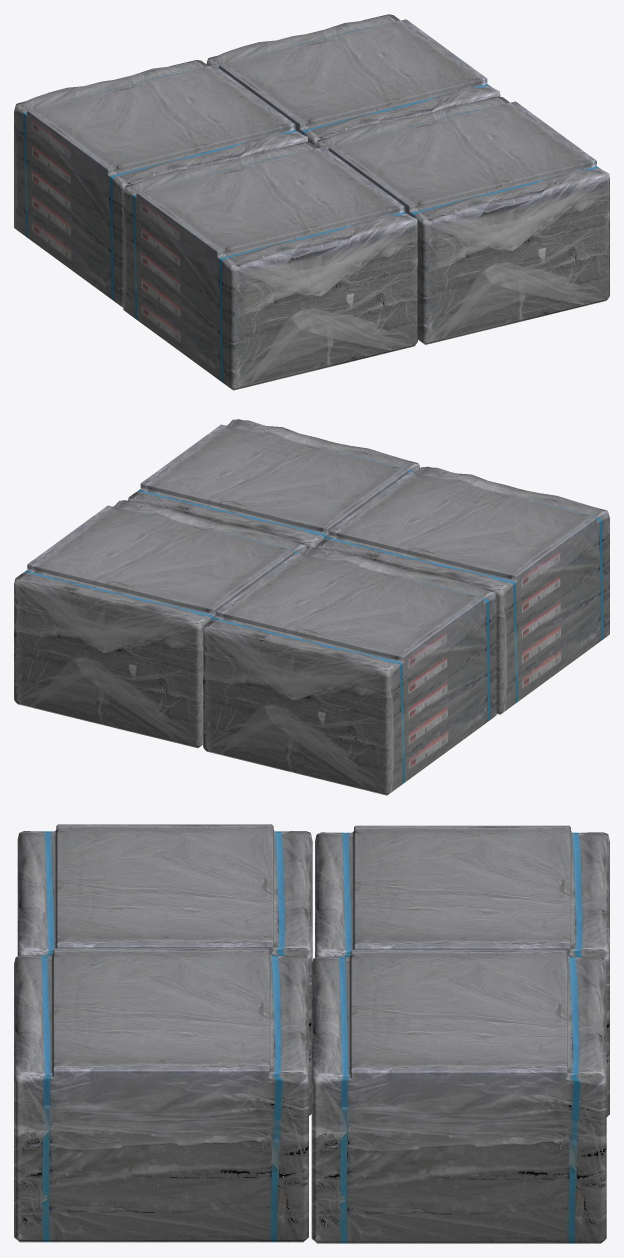
The model's file is PlasticBox_B.glb.
3 renders of one model, top to bottom at view 1: azimuth 30°, elevation 25°; view 2: azimuth 150°, elevation 25°; view 3: azimuth 270°, elevation 25°, orthographic. The views are drawn at different scales.
Parts seen in each view (by area): view 1: PlasticBox_B; view 2: PlasticBox_B; view 3: PlasticBox_B.
Boxes of the visible parts, bbox=[...] form: PlasticBox_B: bbox=[14, 14, 609, 390]; PlasticBox_B: bbox=[14, 419, 609, 795]; PlasticBox_B: bbox=[14, 824, 609, 1243].
Bounding box in the file's own units: 1.03 × 0.3408 × 1.04.
Materials: 1 (1 with a texture image).
